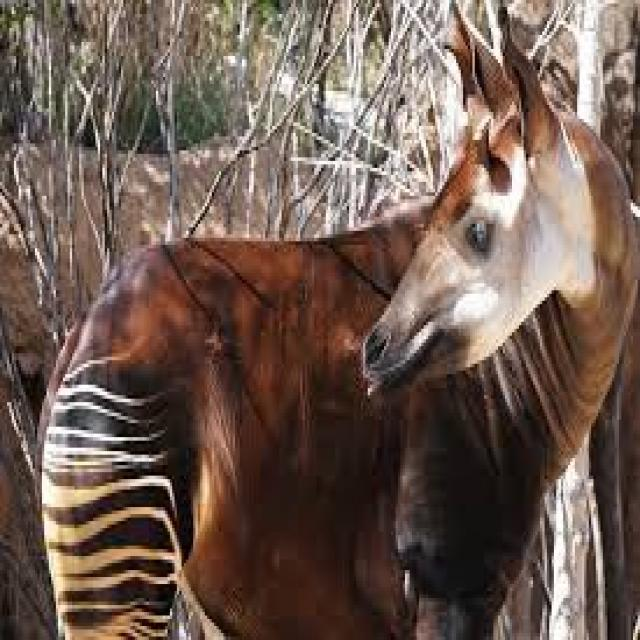Okapi: (31, 4, 639, 640)
